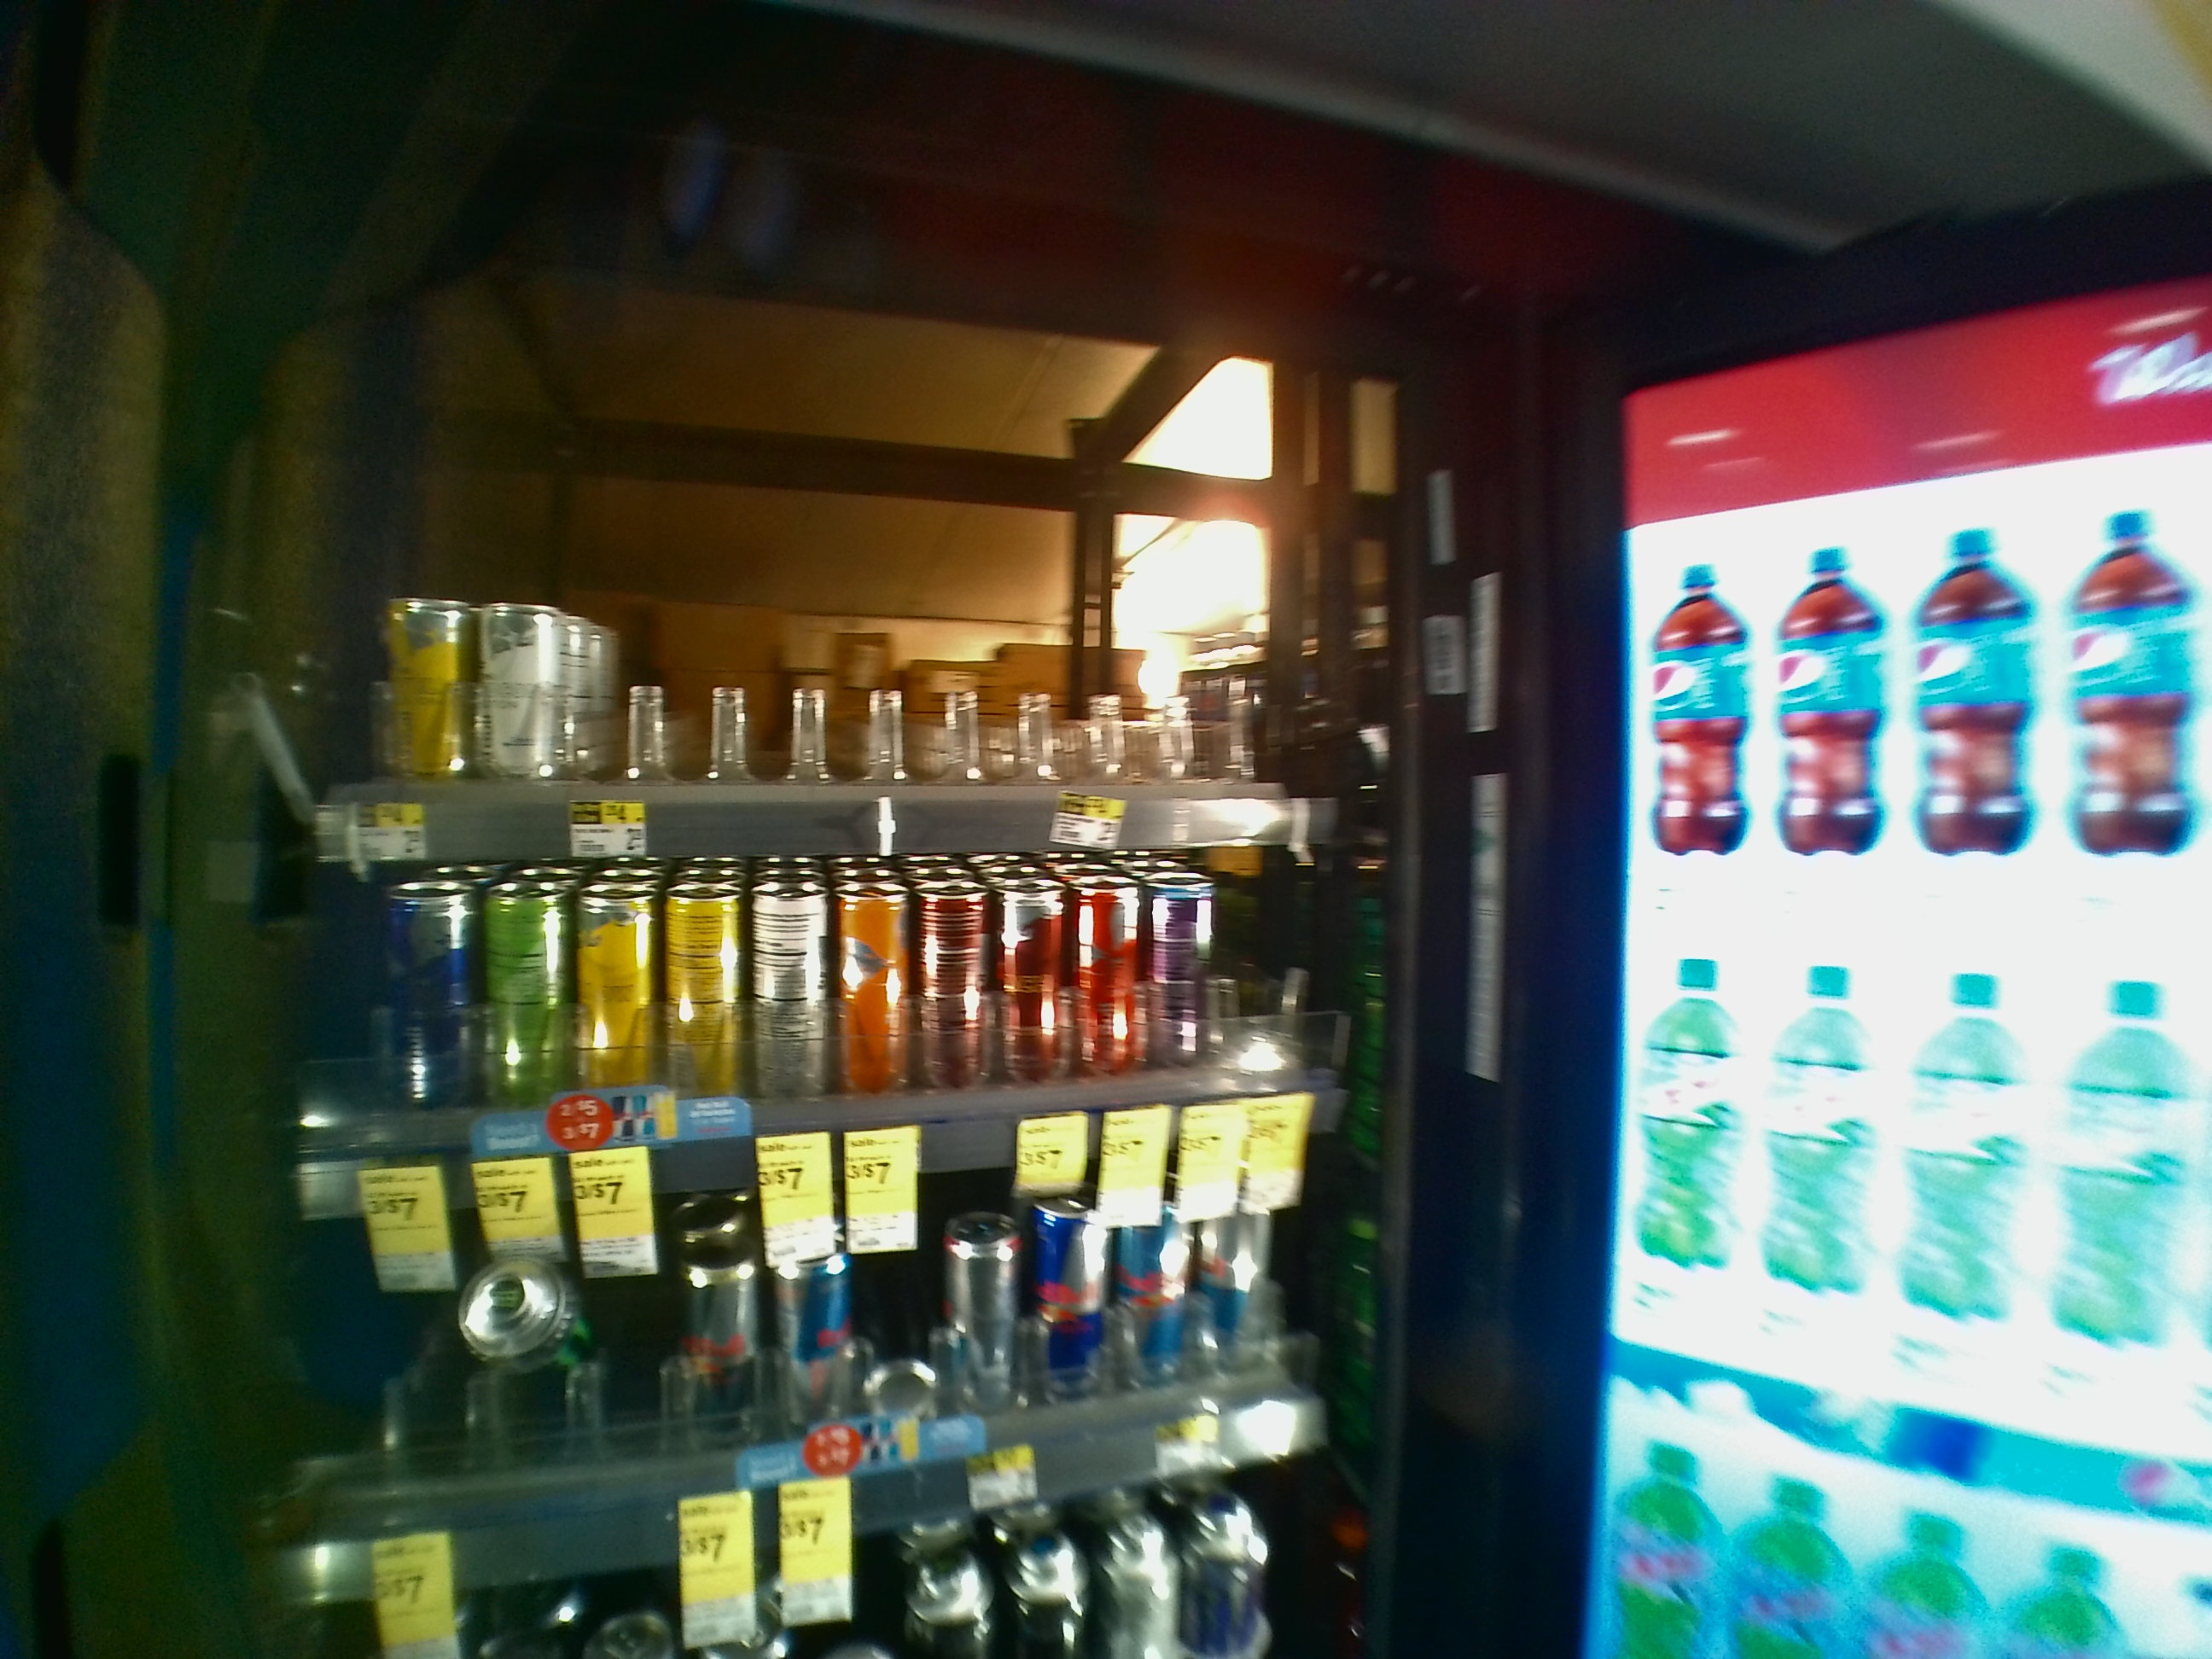shelf: (291, 244, 1421, 847), (284, 823, 1432, 1169)
